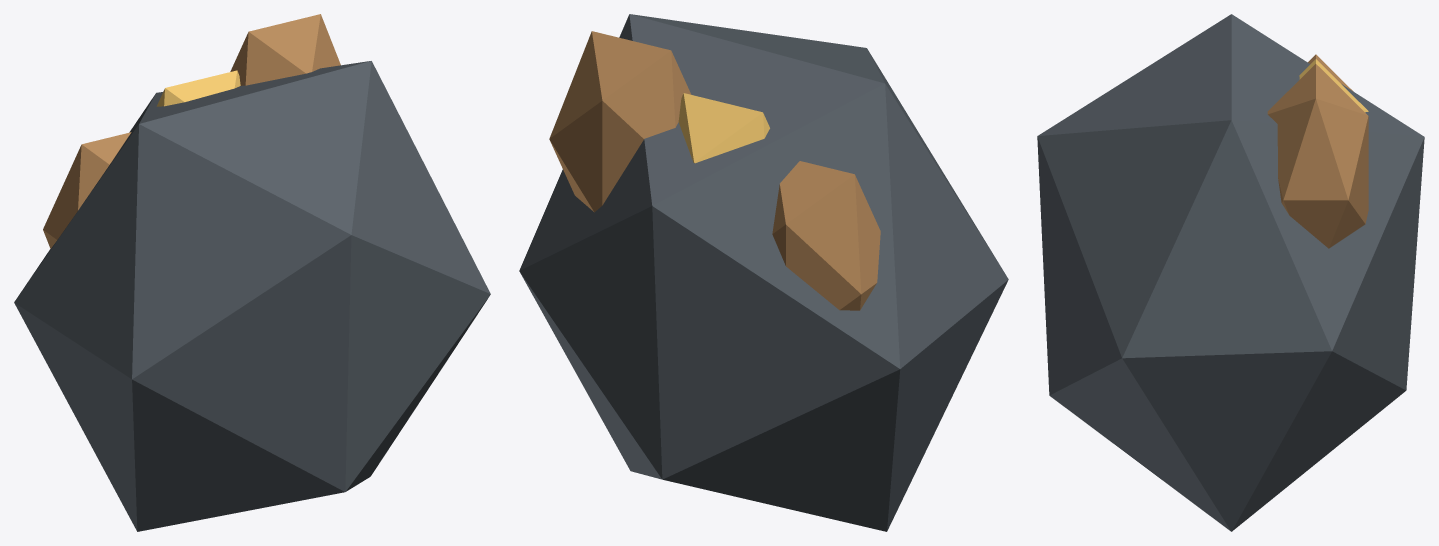
The model's file is rock_ore_bronze.glb.
3 views of the same model, side by side, from view 1: azimuth 30°, elevation 25°; view 2: azimuth 150°, elevation 25°; view 3: azimuth 270°, elevation 25° (orthographic). The views are drawn at different scales.
Visible parts, largest first — view 1: rock, ore_2, ore_0, ore_1; view 2: rock, ore_2, ore_0, ore_1; view 3: rock, ore_2.
Part boxes in pixels (box(x1,y1,x2,y2)): rock: box(14, 61, 490, 531); ore_2: box(230, 14, 340, 85); ore_0: box(43, 132, 131, 248); ore_1: box(156, 70, 240, 106); rock: box(519, 14, 1008, 531); ore_2: box(549, 31, 691, 212); ore_0: box(772, 161, 880, 310); ore_1: box(678, 93, 769, 163); rock: box(1037, 14, 1424, 531); ore_2: box(1267, 64, 1368, 248).
Size of the model in its own units: 0.7457 by 0.8433 by 0.6888.
